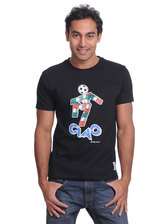clothoes: (32, 55, 136, 184)
